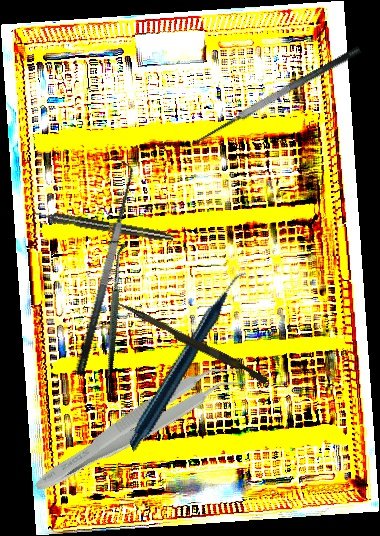Handpiece: (86, 271, 292, 452), (31, 207, 175, 244)
Hook Surgical: (47, 236, 175, 378)
Pusher: (114, 300, 270, 385)
Spatula Surgical: (190, 44, 370, 156), (57, 157, 145, 377)
Tissue Forceps: (28, 350, 248, 508)
